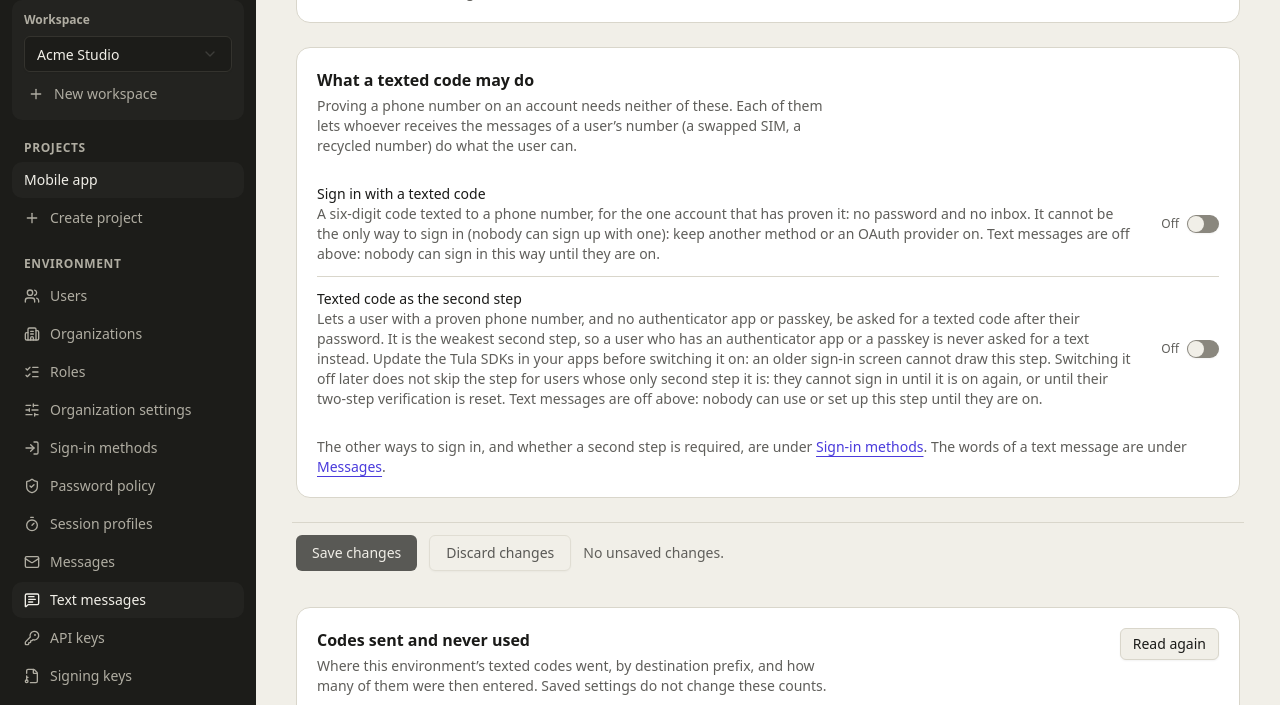
Test case: what asks first is the contract’s › a texted code as the second step where one is required: switching it on asks first
This screenshot has width=1280, height=705.
(page scrolled)
Click the 2nd switch named "Texted code as the second step": (1203,349) [1187,340,1219,358]
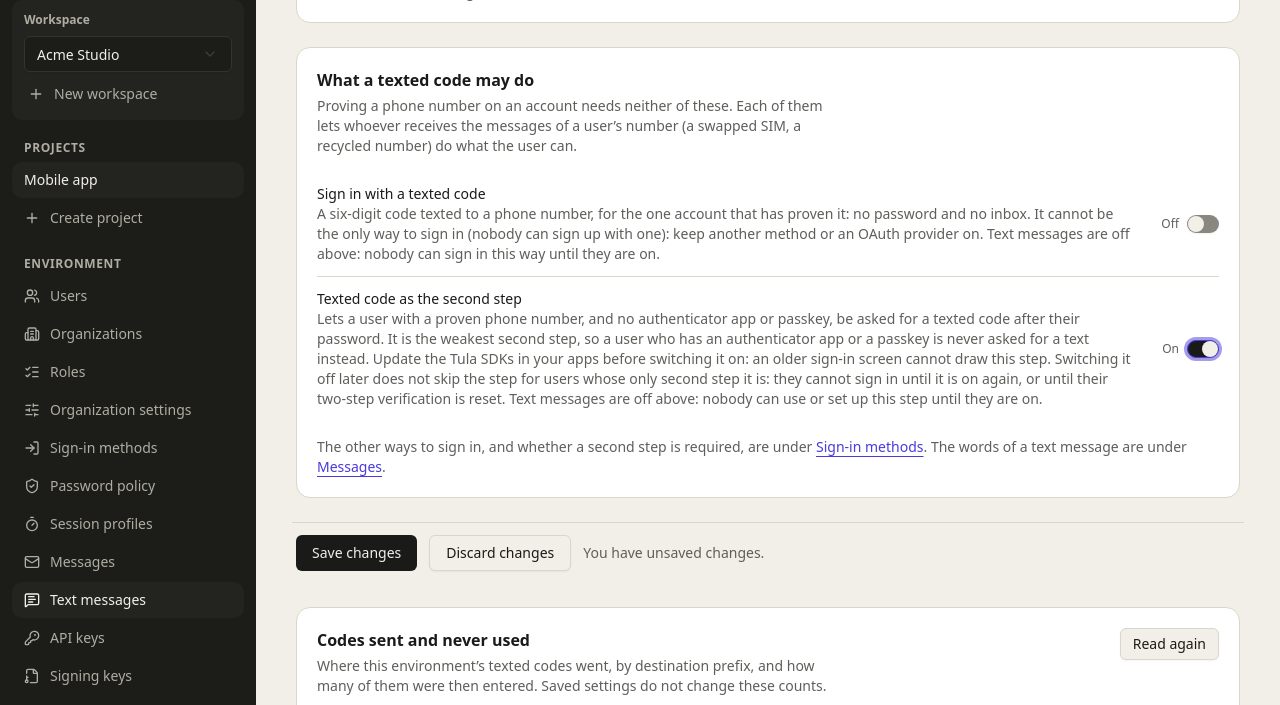
Click the button "Save changes": (357,553) [296,535,417,571]
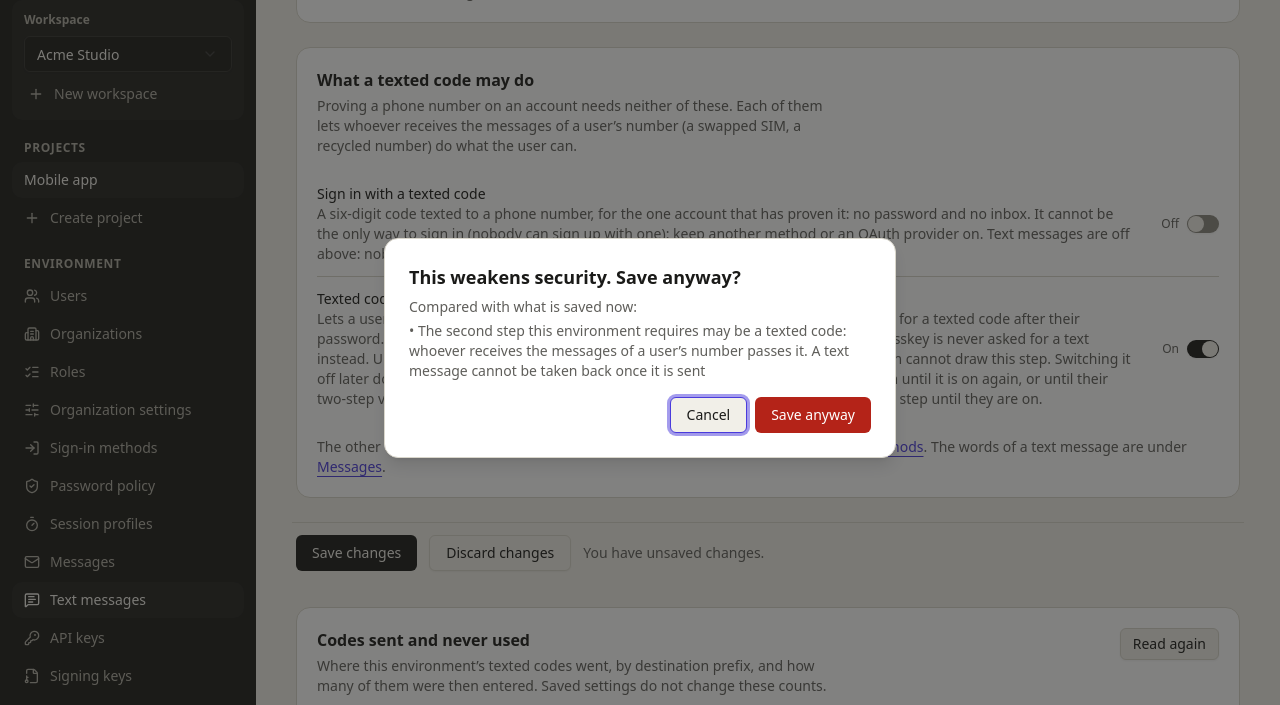
expect the dialog shows "The second step this environment requires may be a texted code": met, box [409,321,849,380]
Click the button "Save anyway": (813,415) [755,397,871,433]
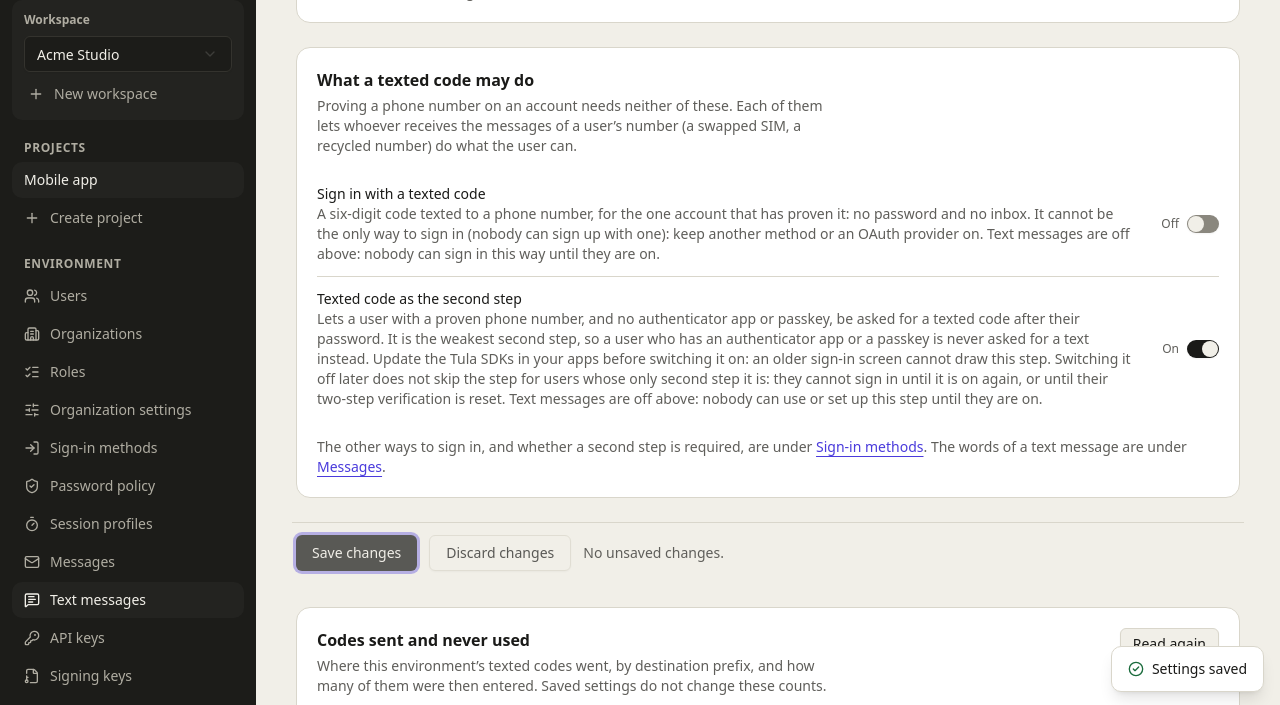
expect the list item "Settings saved" is shown: met, box [1111,646,1264,692]
